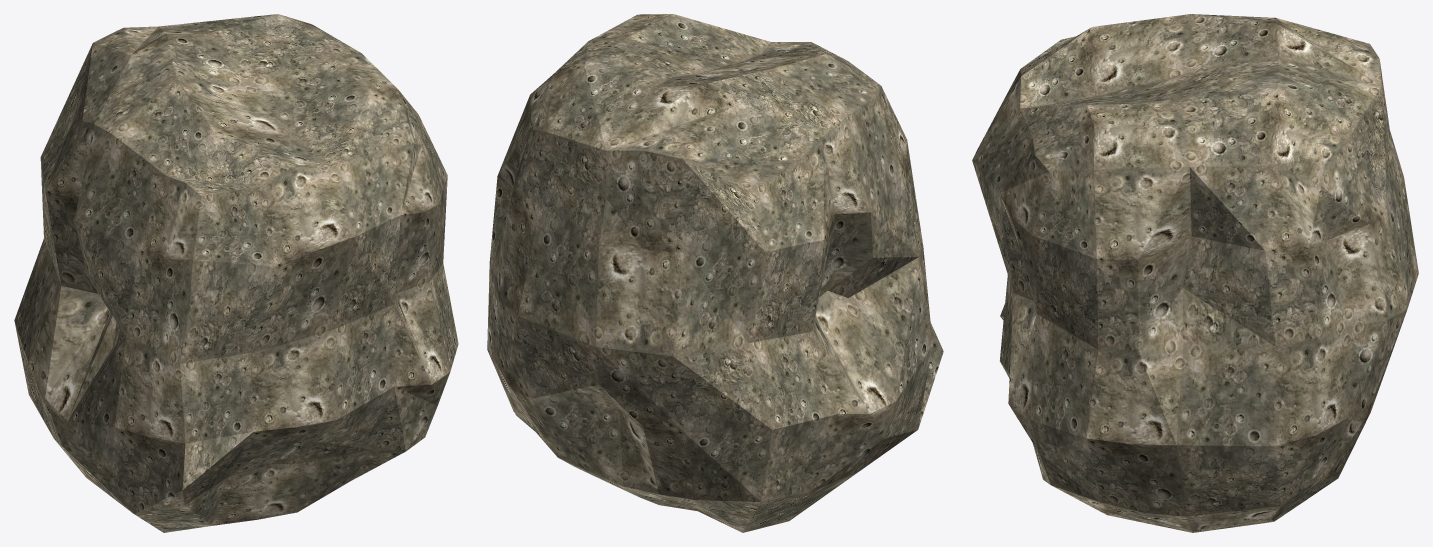
The model's file is asteroid_all_mammoth_02_l1.fbx.
3 renders of one model, left to right at view 1: azimuth 30°, elevation 25°; view 2: azimuth 150°, elevation 25°; view 3: azimuth 270°, elevation 25°, orthographic. The views are drawn at different scales.
Visible parts, largest first — view 1: mesh_node; view 2: mesh_node; view 3: mesh_node.
Boxes of the visible parts, left/top/right/bottom form: mesh_node: left=14, top=14, right=458, bottom=532; mesh_node: left=487, top=14, right=943, bottom=532; mesh_node: left=972, top=14, right=1418, bottom=532.
Bounding box in the file's own units: 244 × 295 × 248.
